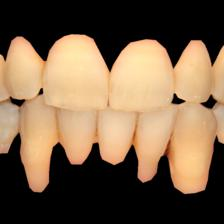cavity: (162, 135, 177, 158), (37, 61, 48, 87), (54, 126, 66, 142), (92, 128, 102, 143), (132, 128, 139, 146)
tooth: (47, 33, 109, 108), (112, 39, 174, 110), (168, 107, 211, 193), (23, 101, 54, 192), (174, 37, 213, 104), (137, 113, 172, 183), (6, 34, 43, 99), (56, 108, 96, 165), (98, 109, 136, 166), (1, 102, 18, 154), (211, 43, 224, 105)
